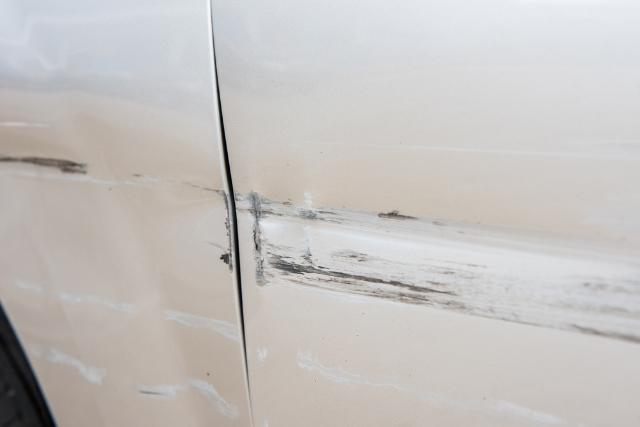dent: (71, 111, 225, 409)
scratch: (240, 188, 640, 347), (293, 348, 586, 427), (11, 275, 122, 314), (30, 340, 114, 386), (0, 150, 78, 184)
